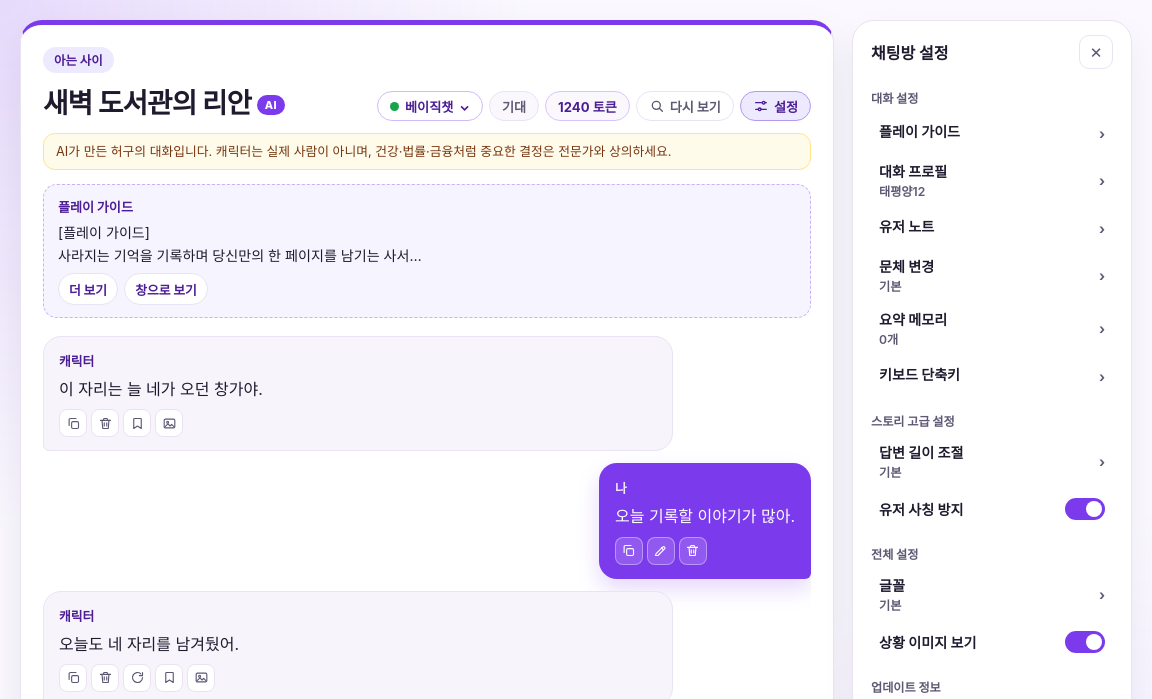
Test: 대화 다시 보기 › 새로 받은 답변도 검색과 책갈피에 바로 잡힌다
This screenshot has width=1152, height=699.
Click the button "다시 보기" at (685, 106), box [636,91,734,121]
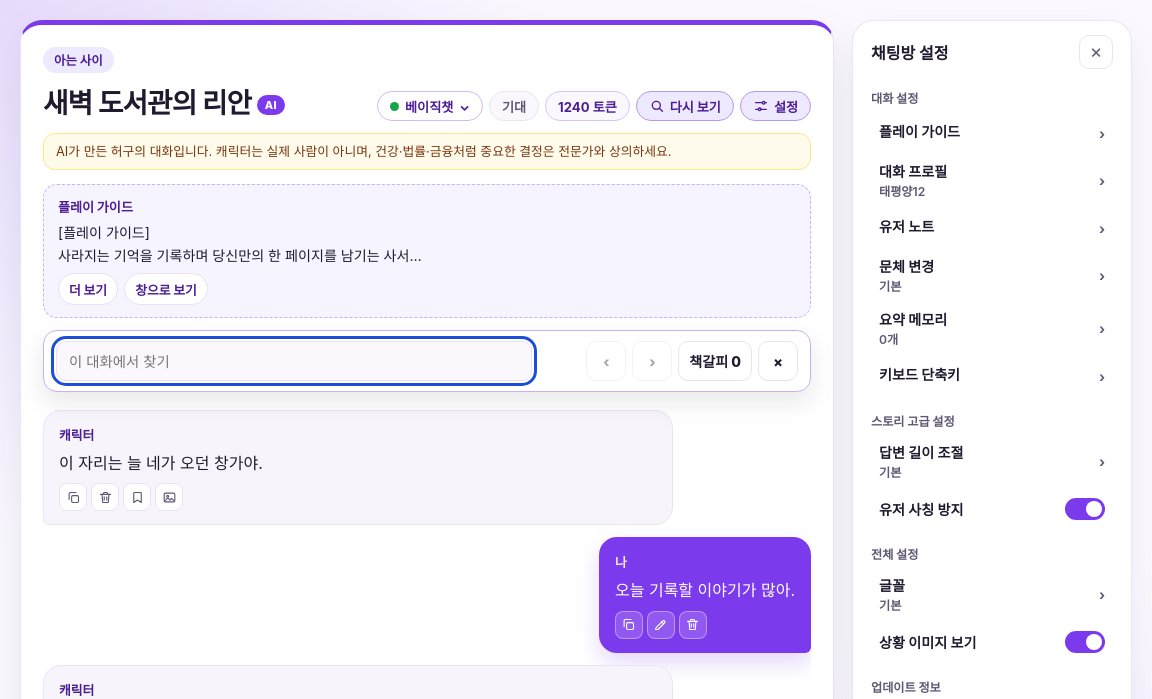
Type "별자리" into the search field named "대화 검색" at (294, 361), box [56,341,532,381]
(page scrolled)
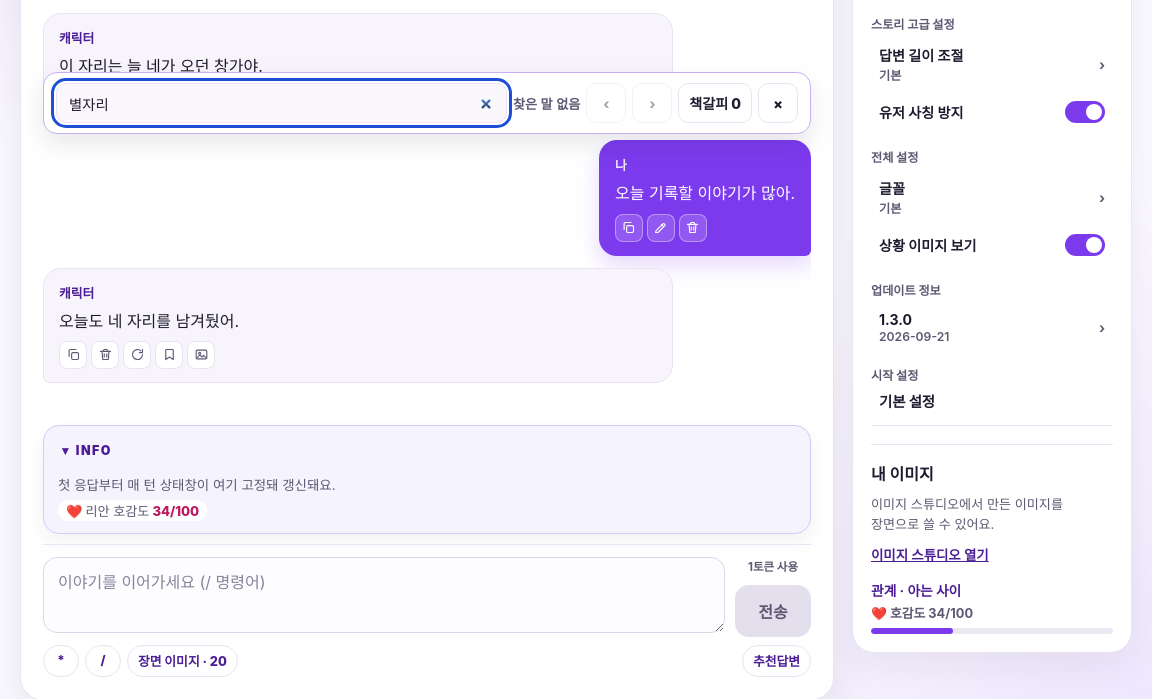
Expected: the message "찾은 말" reads "찾은 말 없음", [513,96,580,112]
Type "별자리 이야기 해 줘" into the text box named "메시지" at (384, 595), box [43,557,725,633]
Then press Enter
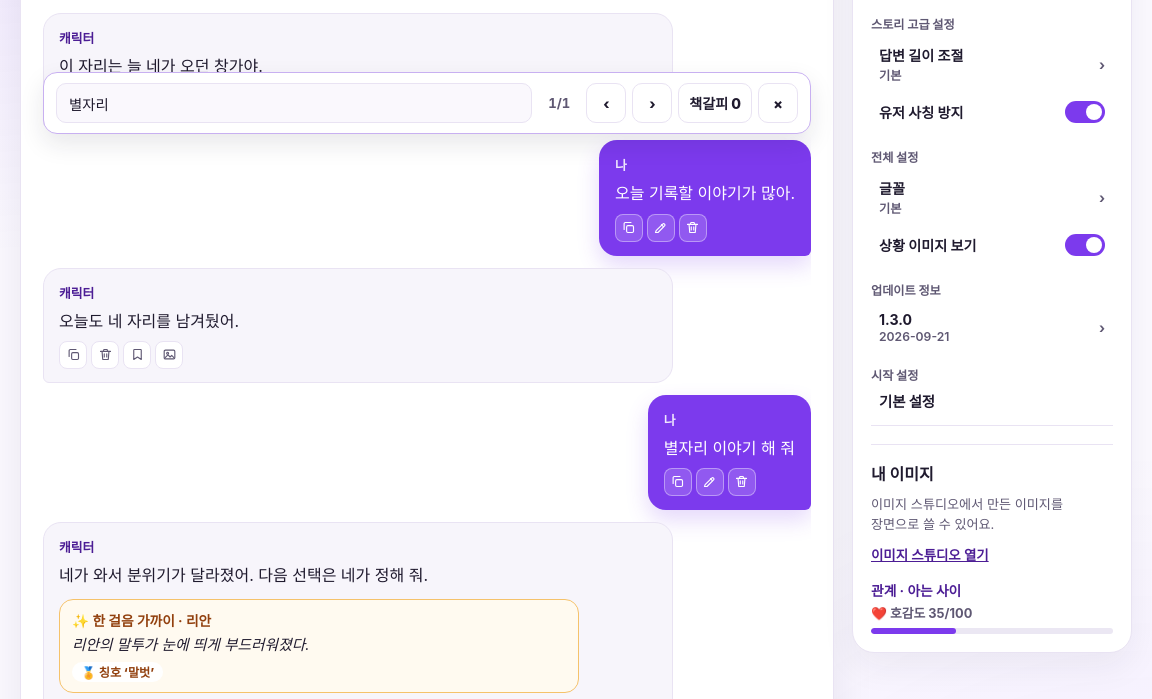
Expected: the message named "찾은 말" reads "1/1", [548,95,570,111]
